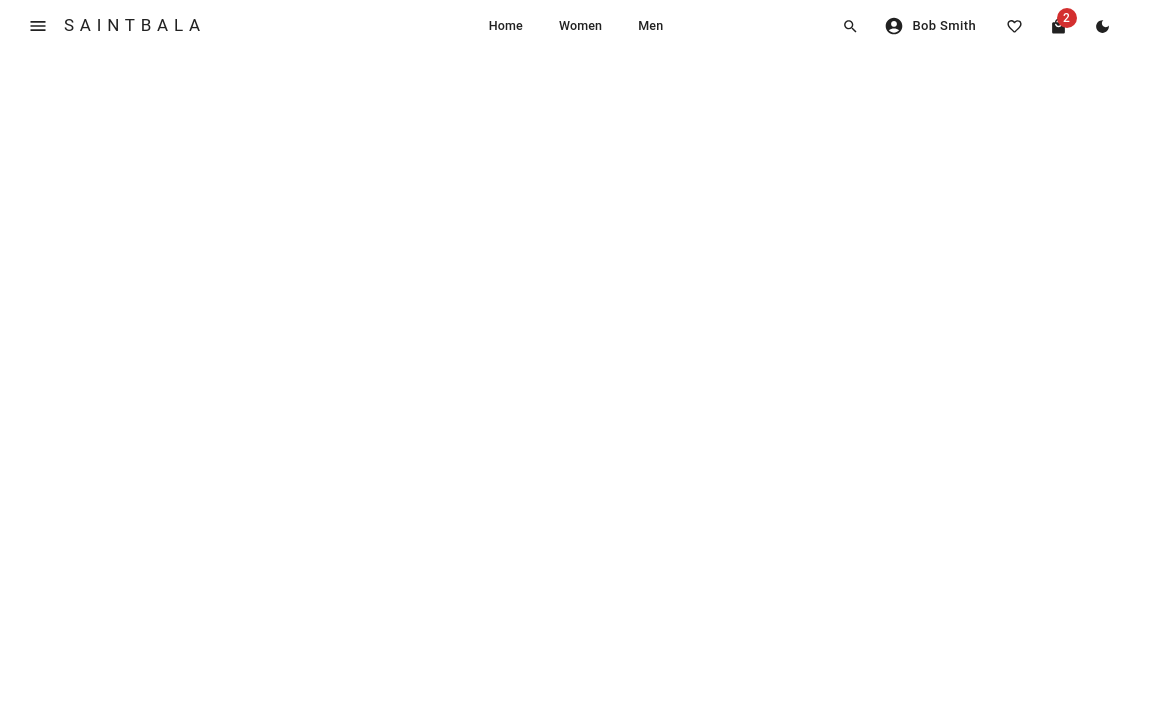
Test case: CustomersHeaderbar › Mobile viewport › shows header menu button on mobile when unhandled items exist
Click menu button to open drawer
Click the button named "menu": (38, 26) [20,8,56,44]
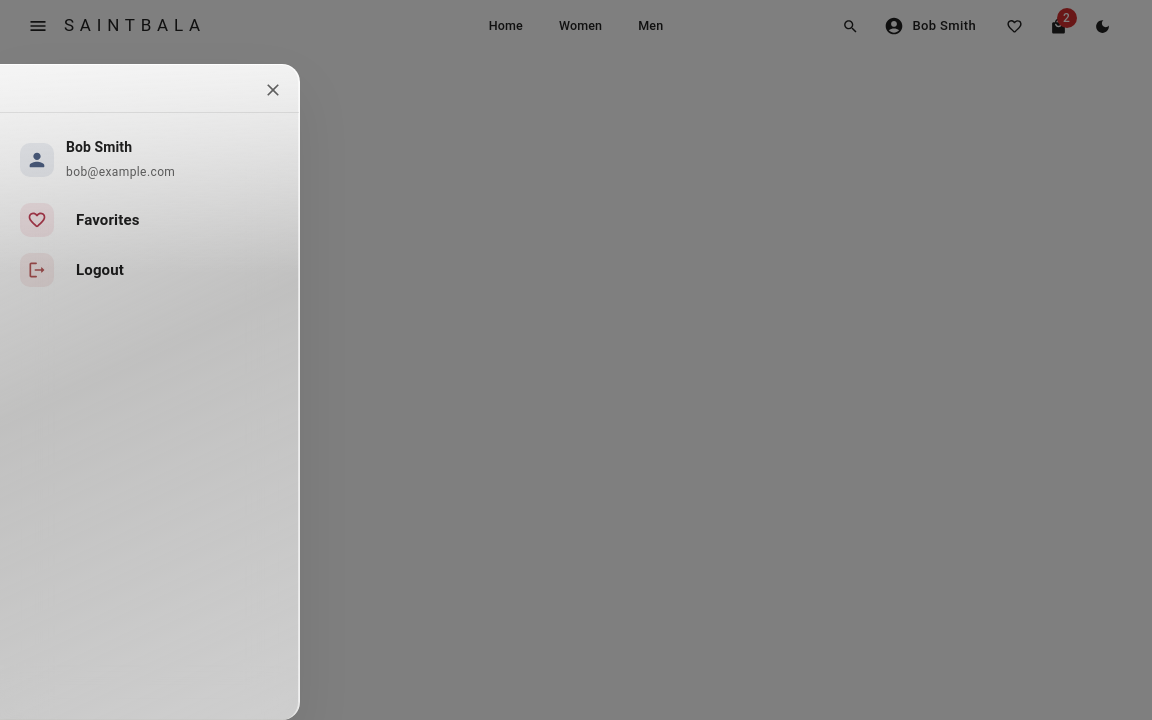
Expected: the button "Bob Smith" is shown, [876,8,988,44]
Result: the text "Logout" is shown at [76,261,124,279]
